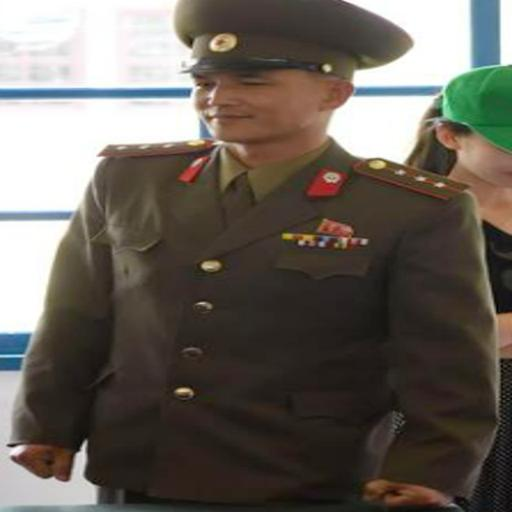north army: (48, 0, 500, 512)
